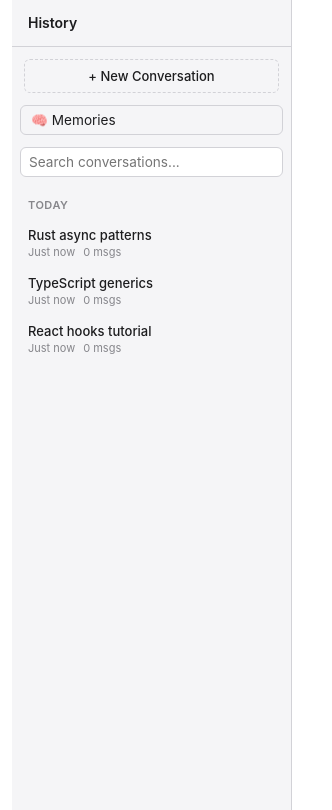
it: HistorySidebar search › filters sessions by title
The width and height of the screenshot is (332, 810).
Expected: the text "Rust async patterns" is shown, [28, 227, 152, 243]
Type "typescript" into the field with placeholder "Search conversations..." at (152, 162), box [20, 147, 283, 177]
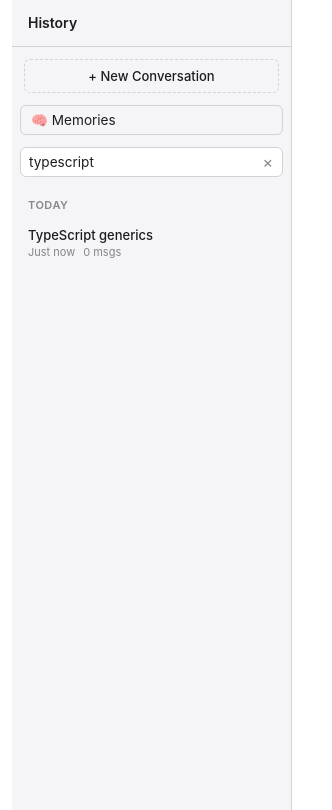
Expected: the text "TypeScript generics" is shown, [28, 227, 153, 243]
Expected: the button "Rust async patterns" is gone
Expected: the button "React hooks tutorial" is gone
